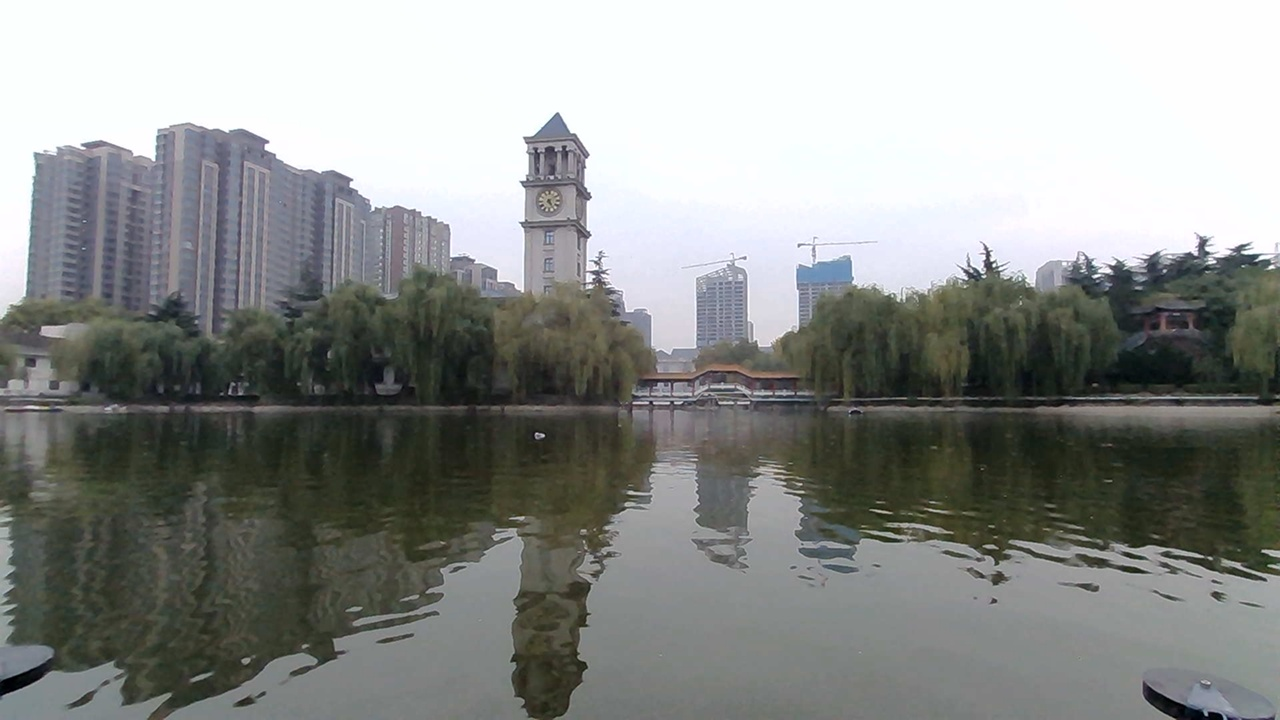bottle: (532, 423, 560, 445)
